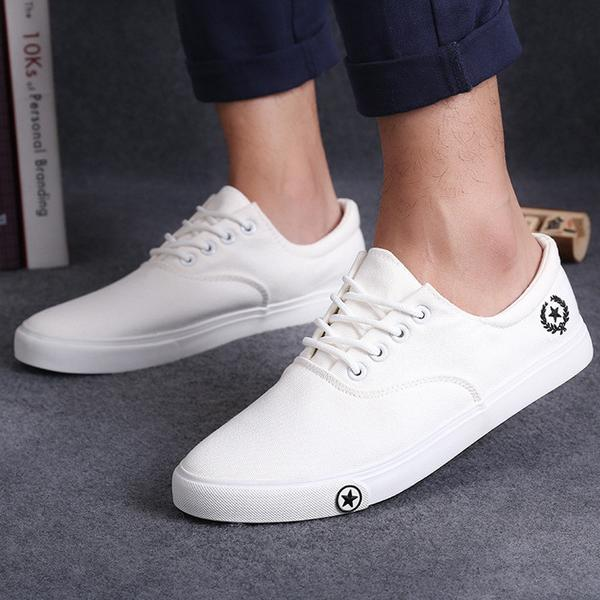shoe: (164, 229, 595, 521), (9, 192, 374, 382)
